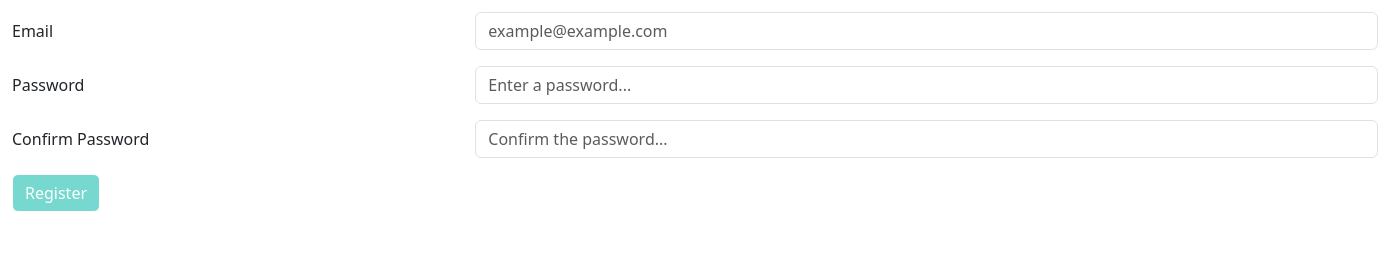
RegisterForm tests › updates isRegPasswordValid state on input change
The image size is (1390, 254).
In the password field with placeholder "Enter a password...": (927,85) [475,66,1378,104], type "invalid-password"
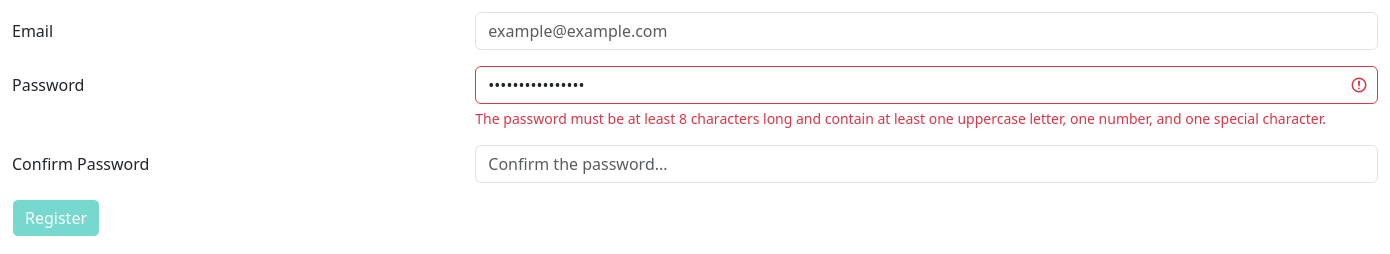
Now the text "The password must be at least 8 characters long and contain at least one uppercase letter, one number, and one special c" is shown, box [475,109,1326,128]
